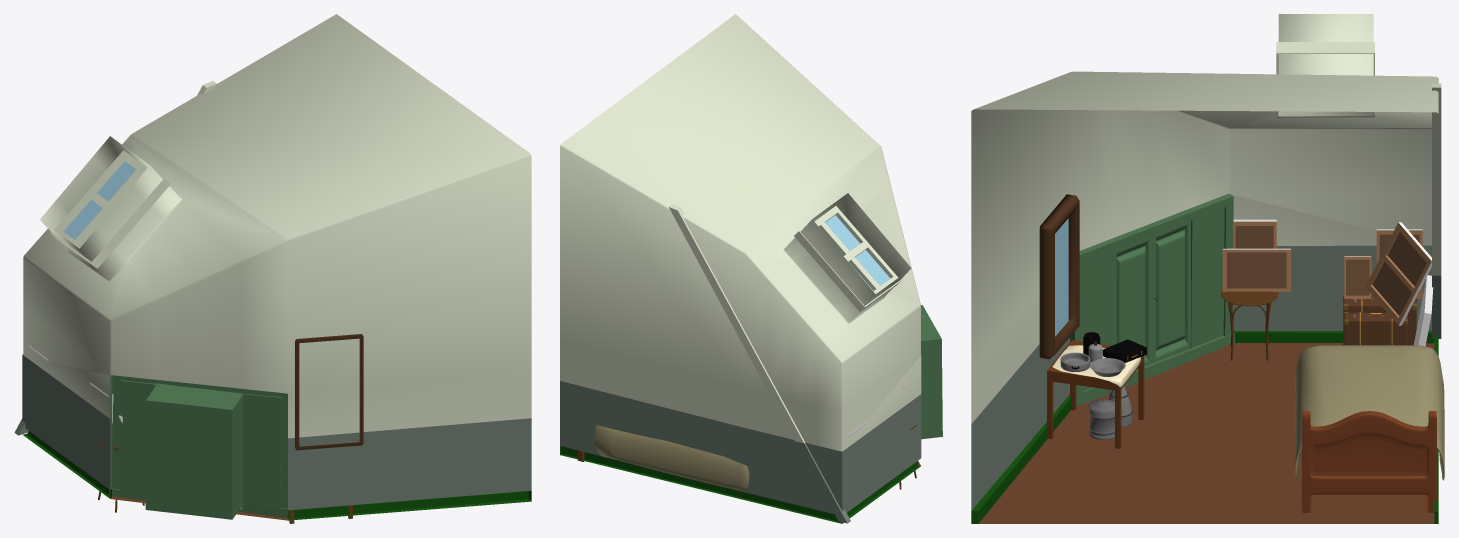
Rendered from chambre de van gogh auvers sur oise.fbx.
The picture shows the model from 3 angles, left to right: view 1: azimuth 30°, elevation 25°; view 2: azimuth 150°, elevation 25°; view 3: azimuth 270°, elevation 25°; orthographic projection. The views are drawn at different scales.
Parts seen in each view (by area): view 1: Cube.003, Cube.031, Cube.028, Cube.029, Cube.005, Cube.023, Cube.006; view 2: Cube.003, Cube.031, Plane.001, Cube.029, Cube.005, Cube.028, Cube.008, Cube.006, Cube.038; view 3: Cube.003, Cube.030, Cube.031, Cube.028, Plane.001, Cube.009, Cylinder.001, Cube.023, Cube.004, Cube.029, Cube.007, Cube.047 (+17 smaller).
Part boxes in pixels (x1,y1,x2,y2): Cube.003: (23, 14, 531, 438); Cube.031: (22, 354, 531, 510); Cube.028: (109, 375, 292, 519); Cube.029: (23, 431, 531, 520); Cube.005: (50, 150, 170, 268); Cube.023: (295, 334, 363, 450); Cube.006: (63, 161, 136, 239); Cube.003: (560, 14, 921, 451); Cube.031: (560, 381, 921, 513); Plane.001: (594, 425, 749, 491); Cube.029: (560, 446, 920, 523); Cube.005: (794, 206, 901, 311); Cube.028: (916, 305, 942, 466); Cube.008: (669, 204, 804, 443); Cube.006: (825, 215, 890, 291); Cube.038: (795, 441, 850, 523); Cube.003: (971, 14, 1438, 423); Cube.030: (978, 343, 1434, 523); Cube.031: (971, 245, 1431, 510); Cube.028: (1070, 193, 1234, 406); Plane.001: (1295, 345, 1444, 480); Cube.009: (1302, 411, 1436, 512); Cylinder.001: (1152, 220, 1190, 363); Cube.023: (1039, 194, 1079, 359); Cube.004: (1114, 235, 1152, 369); Cube.029: (971, 331, 1438, 523); Cube.007: (1047, 340, 1144, 448); Cube.047: (1227, 252, 1286, 288).
Bounding box in the file's own units: 9883 × 10573 × 10501.
